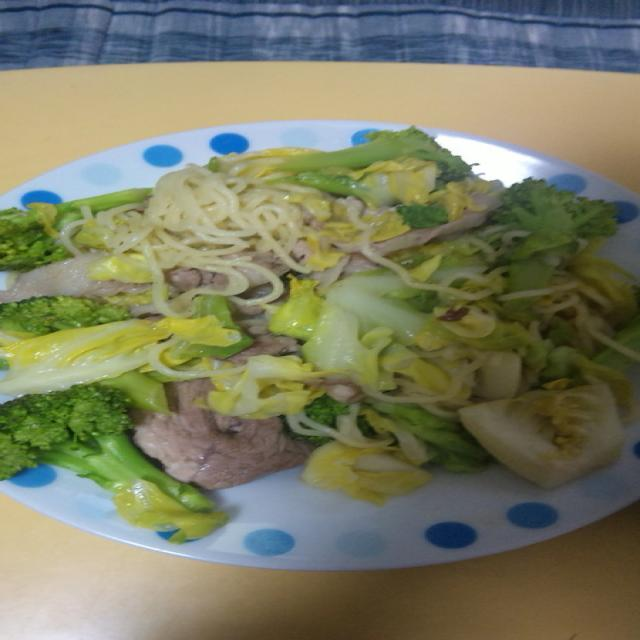Rice: (0, 136, 637, 493)
